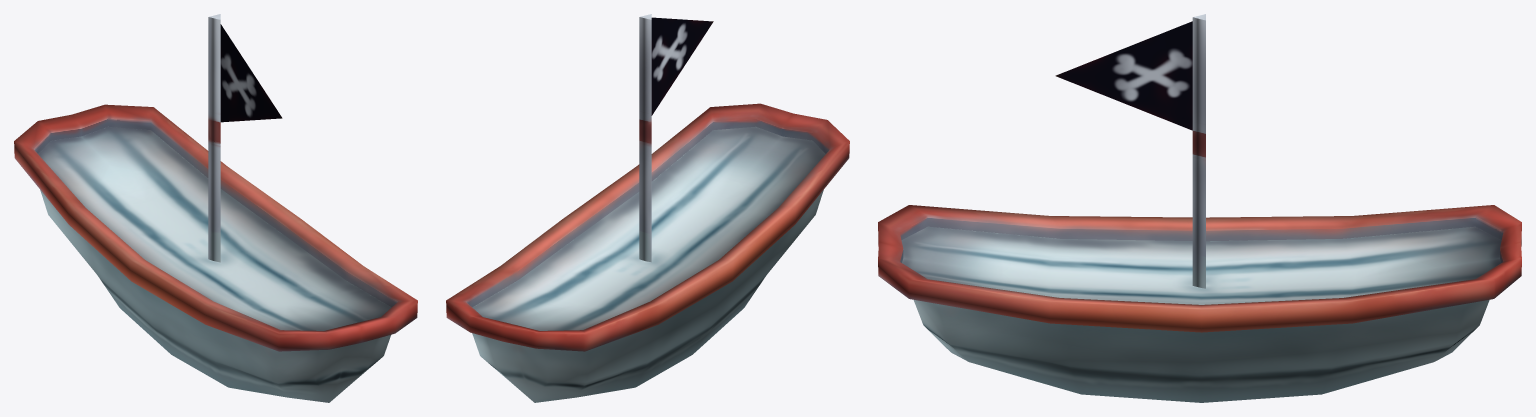
File: boatfbx.FBX
3 views of the same model, side by side, from view 1: azimuth 30°, elevation 25°; view 2: azimuth 150°, elevation 25°; view 3: azimuth 270°, elevation 25° (orthographic). The views are drawn at different scales.
Parts seen in each view (by area): view 1: Box001; view 2: Box001; view 3: Box001.
Part boxes in pixels (x1=…): Box001: x1=14, y1=14, x2=417, y2=402; Box001: x1=446, y1=14, x2=849, y2=402; Box001: x1=878, y1=14, x2=1521, y2=402.
Bounding box in the file's own units: 101 × 298 × 189.
